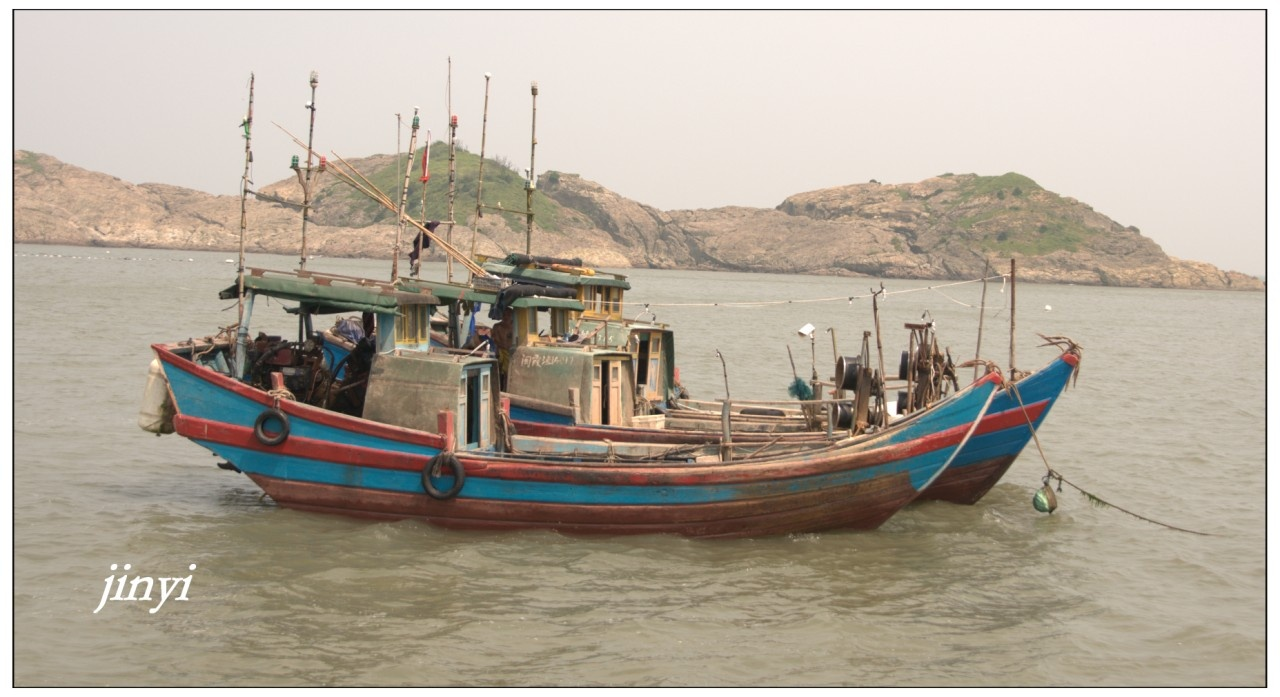otherboat: (151, 174, 1000, 527), (348, 211, 1085, 510)
